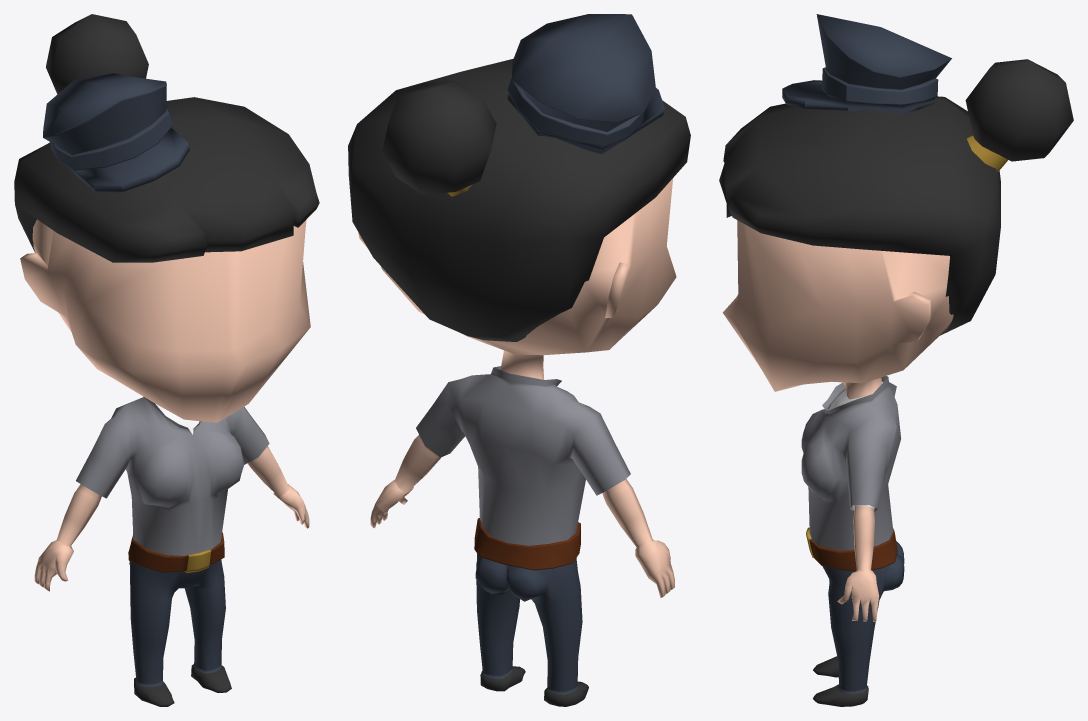
Rendered from Officer_Wen_Blockout.fbx.
3 renders of one model, left to right at view 1: azimuth 30°, elevation 25°; view 2: azimuth 150°, elevation 25°; view 3: azimuth 270°, elevation 25°, orthographic. The views are drawn at different scales.
Parts seen in each view (by area): view 1: Wen base.004; view 2: Wen base.004; view 3: Wen base.004.
Part boxes in pixels (<box>): Wen base.004: <box>14,14,319,706</box>; Wen base.004: <box>348,14,690,706</box>; Wen base.004: <box>719,14,1073,706</box>.
Bounding box in the file's own units: 233 × 522 × 264.
